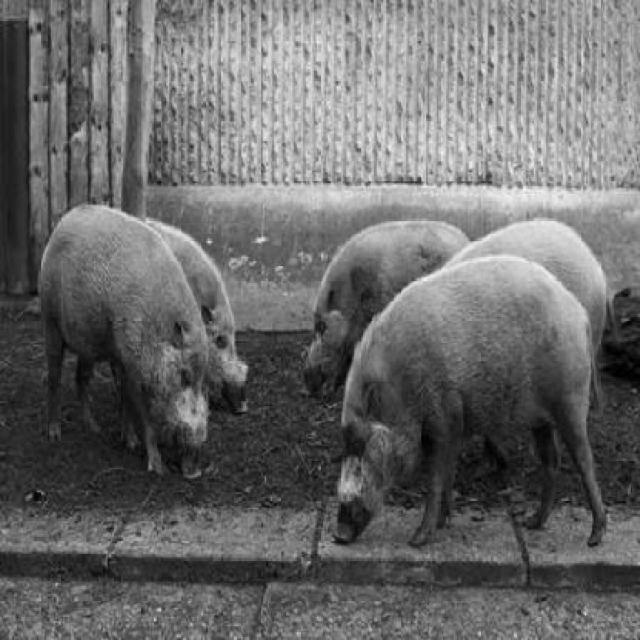pig: (319, 230, 623, 578), (35, 203, 217, 502), (280, 189, 381, 411), (177, 235, 281, 404)
